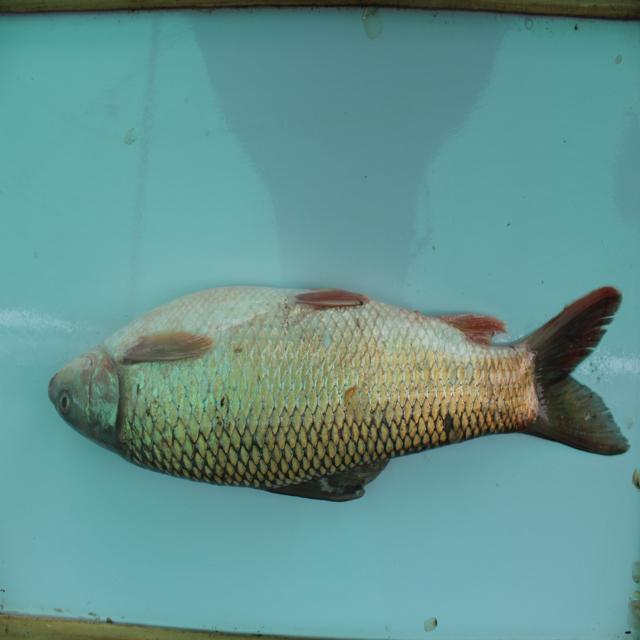Mori: (52, 275, 625, 519)
